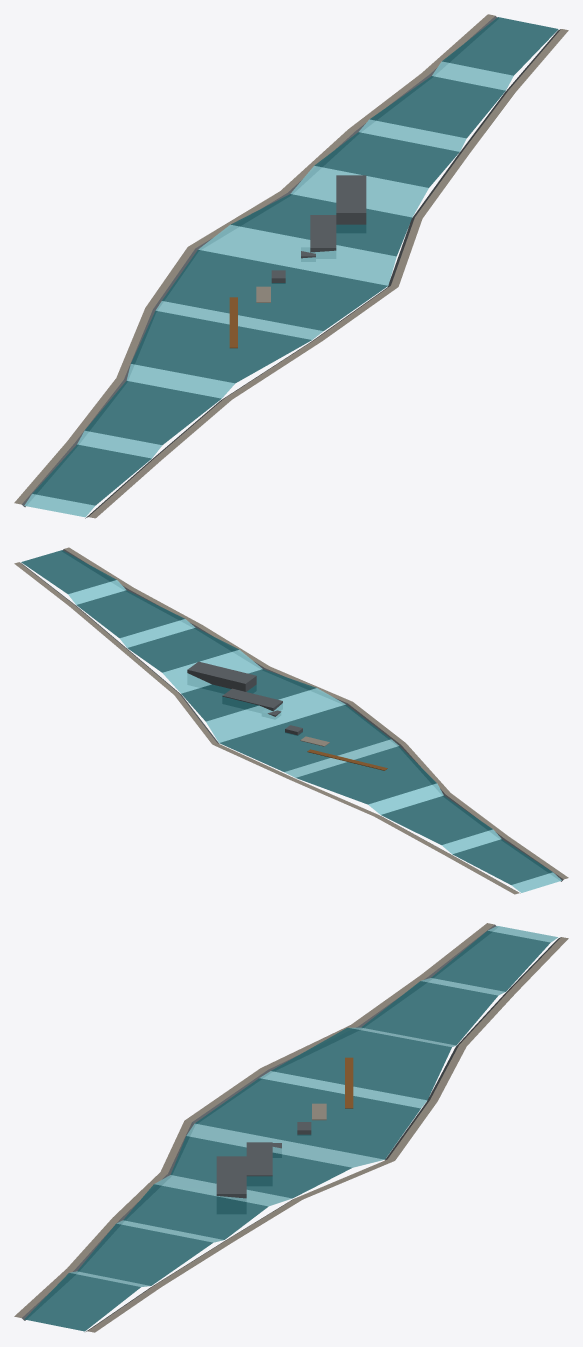
Rendered from water_thac_cam_ly_phuong_5.glb.
The picture shows the model from 3 angles, top to bottom: view 1: azimuth 90°, elevation 25°; view 2: azimuth 150°, elevation 25°; view 3: azimuth 270°, elevation 25°; orthographic projection. The views are drawn at different scales.
Visible parts, largest first — view 1: water_terraces_water_thac_cam_ly_phuong_5, waterfall_curtain_water_thac_cam_ly_phuong_5, canyon_walkway_water_thac_cam_ly_phuong_5, basalt_canyon_embankments_water_thac_cam_ly_phuong_5, cam_ly_granite_cascade_upper_ledge, cam_ly_granite_boulder_terrace_shelf; view 2: water_terraces_water_thac_cam_ly_phuong_5, waterfall_curtain_water_thac_cam_ly_phuong_5, canyon_walkway_water_thac_cam_ly_phuong_5, cam_ly_granite_cascade_upper_ledge, basalt_canyon_embankments_water_thac_cam_ly_phuong_5, cam_ly_granite_boulder_terrace_shelf; view 3: water_terraces_water_thac_cam_ly_phuong_5, canyon_walkway_water_thac_cam_ly_phuong_5, waterfall_curtain_water_thac_cam_ly_phuong_5, basalt_canyon_embankments_water_thac_cam_ly_phuong_5, cam_ly_granite_cascade_upper_ledge, cam_ly_granite_boulder_terrace_shelf.
Boxes of the visible parts, x1,y1,x2,y2 form: water_terraces_water_thac_cam_ly_phuong_5: (32,17,558,505); waterfall_curtain_water_thac_cam_ly_phuong_5: (24,61,513,517); canyon_walkway_water_thac_cam_ly_phuong_5: (14,14,568,518); basalt_canyon_embankments_water_thac_cam_ly_phuong_5: (22,16,560,518); cam_ly_granite_cascade_upper_ledge: (336,175,366,224); cam_ly_granite_boulder_terrace_shelf: (310,215,336,252); water_terraces_water_thac_cam_ly_phuong_5: (21,550,552,884); waterfall_curtain_water_thac_cam_ly_phuong_5: (68,580,561,892); canyon_walkway_water_thac_cam_ly_phuong_5: (14,547,568,894); cam_ly_granite_cascade_upper_ledge: (187,661,256,691); basalt_canyon_embankments_water_thac_cam_ly_phuong_5: (20,549,563,893); cam_ly_granite_boulder_terrace_shelf: (222,688,282,711); water_terraces_water_thac_cam_ly_phuong_5: (24,930,550,1331); canyon_walkway_water_thac_cam_ly_phuong_5: (14,923,568,1332); waterfall_curtain_water_thac_cam_ly_phuong_5: (69,926,557,1286); basalt_canyon_embankments_water_thac_cam_ly_phuong_5: (22,924,560,1331); cam_ly_granite_cascade_upper_ledge: (216,1156,246,1198); cam_ly_granite_boulder_terrace_shelf: (246,1142,272,1176).
Bounding box in the file's own units: 580 × 29.45 × 298.
